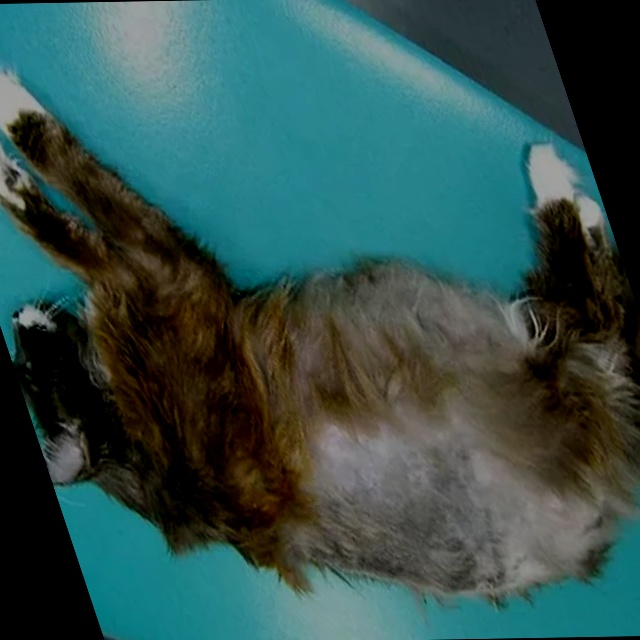hairloss: (286, 445, 617, 584), (291, 285, 521, 379)
